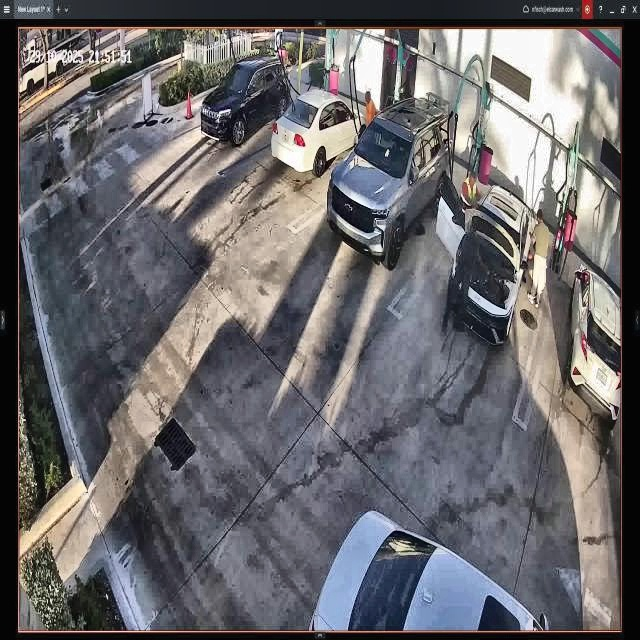Car: (328, 98, 450, 270), (442, 174, 536, 342), (272, 88, 368, 174)
